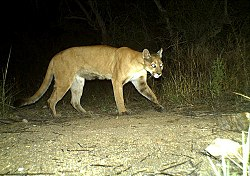OncaParda: (11, 41, 168, 118)
